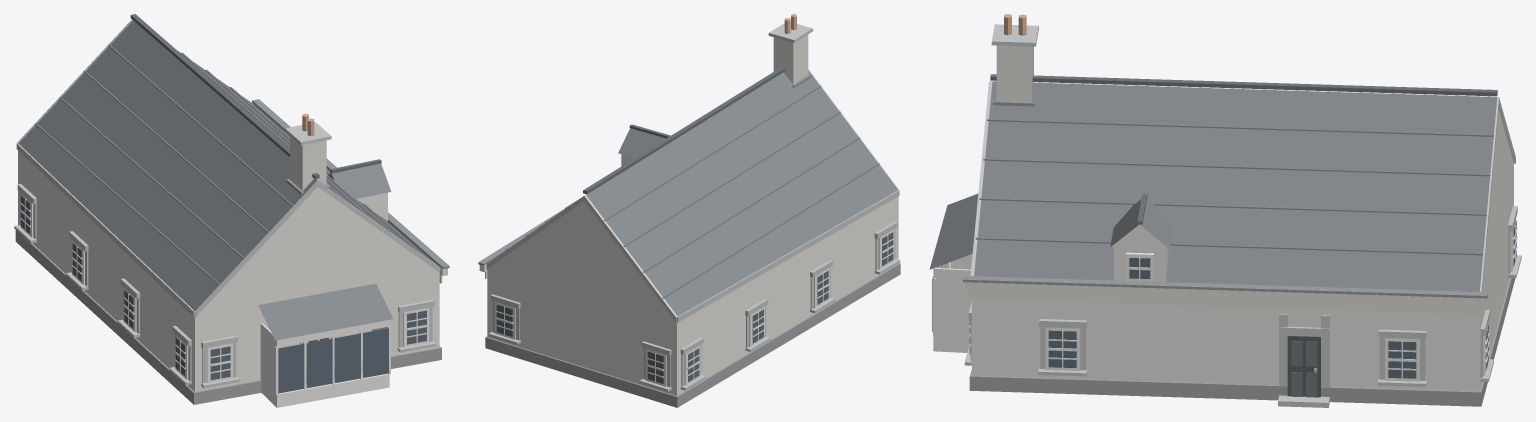
The picture shows the model from 3 angles, left to right: view 1: azimuth 30°, elevation 25°; view 2: azimuth 150°, elevation 25°; view 3: azimuth 270°, elevation 25°; orthographic projection. The views are drawn at different scales.
Parts seen in each view (by area): view 1: slate, harl, stone_band, frame, plinth, slate_lt, slate_dk, chim_render, window_glass_013, window_glass_014, window_glass_015, window_glass_016 (+3 smaller); view 2: slate, harl, stone_band, plinth, slate_lt, frame, slate_dk, chim_render, lead, window_glass_004, window_glass_005; view 3: slate, harl, string, stone_band, plinth, frame, slate_lt, lead, slate_dk, chim_render, door_dark_p, door_dark (+2 smaller).
Part boxes in pixels (box(x1,y1,x2,y2)): slate: box(19, 20, 436, 340); harl: box(18, 151, 439, 391); stone_band: box(14, 19, 440, 388); frame: box(20, 193, 429, 407); plinth: box(15, 230, 441, 404); slate_lt: box(35, 44, 415, 284); slate_dk: box(130, 14, 381, 178); chim_render: box(290, 136, 326, 190); window_glass_013: box(278, 344, 304, 393); window_glass_014: box(306, 338, 332, 388); window_glass_015: box(334, 333, 360, 382); window_glass_016: box(363, 328, 388, 377); slate: box(586, 70, 897, 316); harl: box(487, 154, 898, 395); stone_band: box(486, 22, 900, 391); plinth: box(485, 263, 900, 407); slate_lt: box(506, 85, 879, 298); frame: box(495, 229, 894, 386); slate_dk: box(583, 67, 785, 194); chim_render: box(773, 34, 808, 84); lead: box(478, 74, 811, 265); window_glass_004: box(496, 304, 512, 336); window_glass_005: box(647, 351, 663, 383); slate: box(929, 81, 1497, 291); harl: box(972, 109, 1513, 391); string: box(964, 282, 1486, 314); stone_band: box(964, 24, 1521, 407); plinth: box(969, 278, 1515, 406); frame: box(933, 219, 1517, 381); slate_lt: box(975, 119, 1493, 255); lead: box(963, 100, 1487, 298); slate_dk: box(990, 74, 1497, 224); chim_render: box(996, 45, 1033, 101); door_dark_p: box(1291, 341, 1317, 397); door_dark: box(1287, 336, 1320, 397).
Size of the model in its own units: 10.61 by 9.67 by 16.87.
